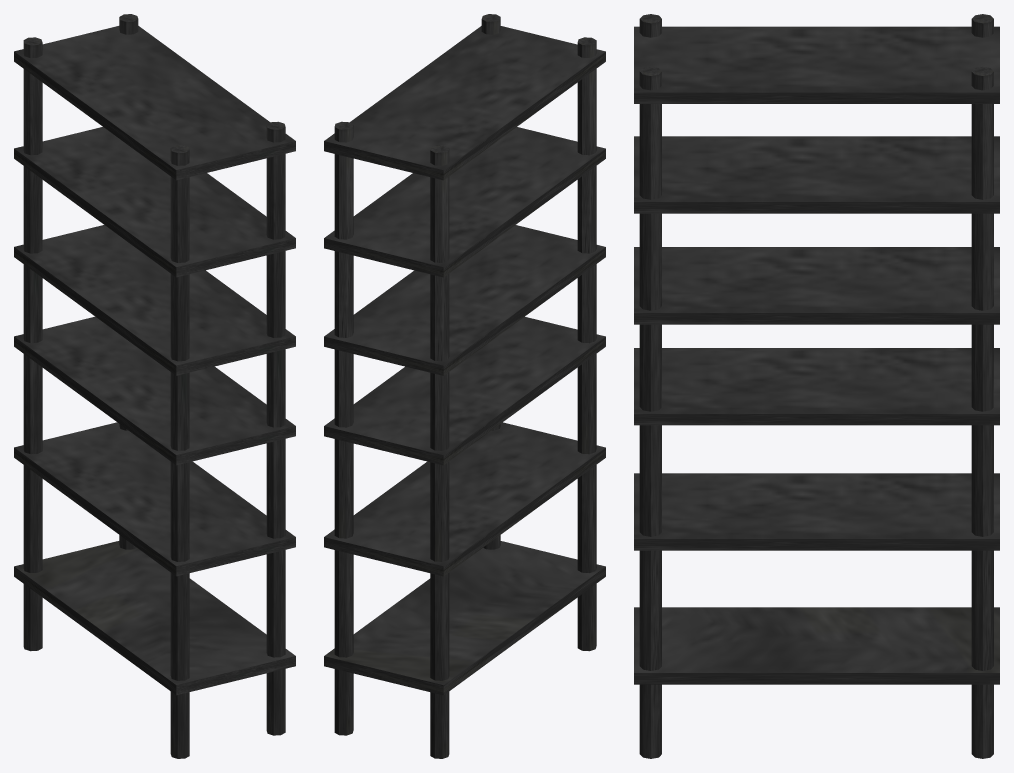
The model's file is EstanteFerro.fbx.
3 renders of one model, left to right at view 1: azimuth 30°, elevation 25°; view 2: azimuth 150°, elevation 25°; view 3: azimuth 270°, elevation 25°, orthographic. The views are drawn at different scales.
Visible parts, largest first — view 1: Cylinder, Cube.001, Cube.005, Cube.004, Cube.003, Cube.002, Cube; view 2: Cylinder, Cube.001, Cube.005, Cube.004, Cube.003, Cube.002, Cube; view 3: Cylinder, Cube.001, Cube, Cube.003, Cube.002, Cube.004, Cube.005.
Boxes of the visible parts, x1,y1,x2,y2 form: Cylinder: [23, 14, 285, 758]; Cube.001: [14, 26, 295, 180]; Cube.005: [14, 541, 295, 695]; Cube.004: [14, 422, 295, 576]; Cube.003: [14, 225, 295, 375]; Cube.002: [14, 127, 295, 277]; Cube: [14, 316, 295, 465]; Cylinder: [334, 14, 596, 758]; Cube.001: [324, 26, 605, 180]; Cube.005: [324, 541, 605, 695]; Cube.004: [324, 422, 605, 576]; Cube.003: [324, 225, 605, 375]; Cube.002: [324, 127, 605, 277]; Cube: [324, 316, 605, 465]; Cylinder: [639, 14, 993, 758]; Cube.001: [634, 26, 999, 103]; Cube: [634, 348, 999, 425]; Cube.003: [634, 247, 999, 324]; Cube.002: [634, 136, 999, 213]; Cube.004: [634, 473, 999, 550]; Cube.005: [634, 607, 999, 684].
Size of the model in its own units: 251 by 1216 by 590.
